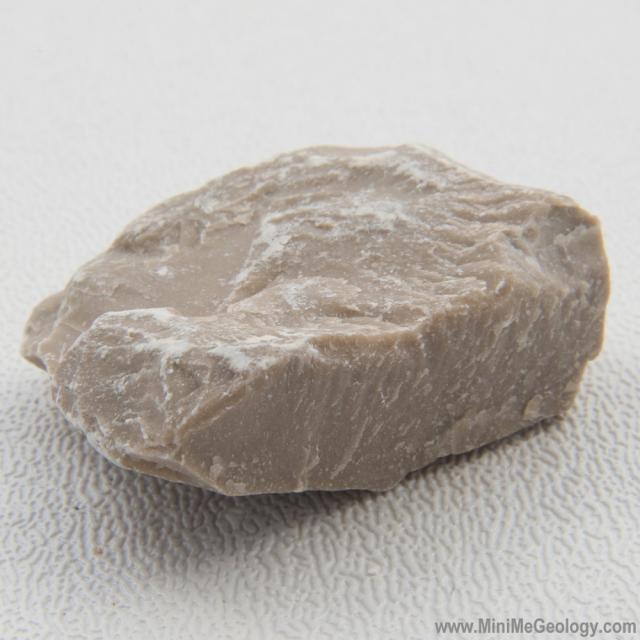Sedimentary: (9, 138, 616, 488)
